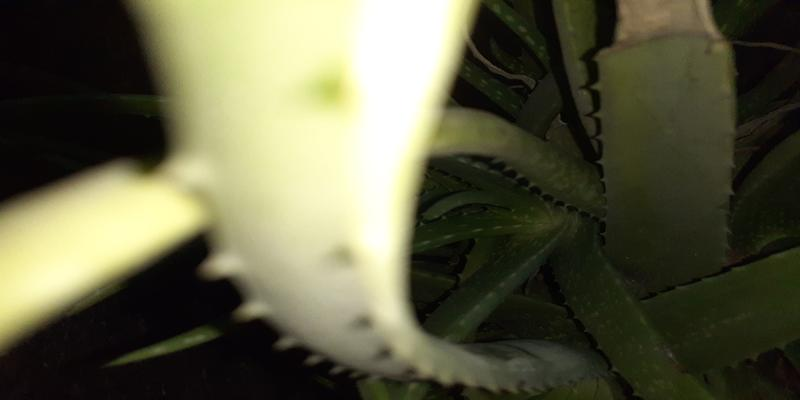Aloevera: (130, 25, 779, 354)
